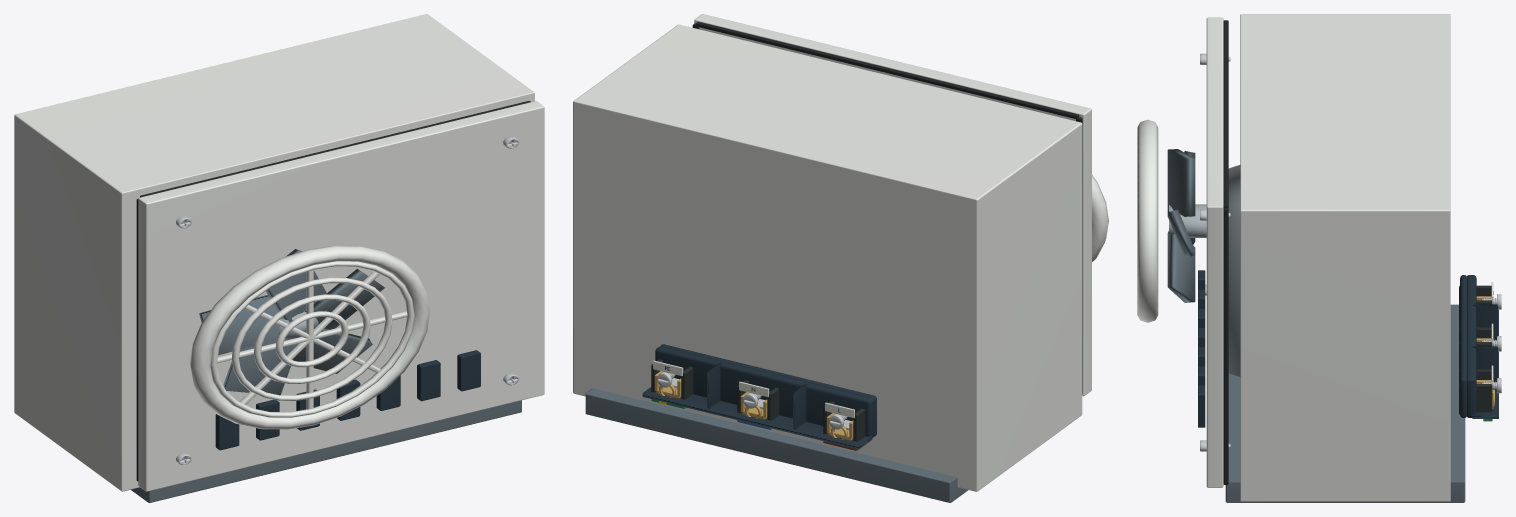
File: heatpump_default.glb
3 renders of one model, left to right at view 1: azimuth 30°, elevation 25°; view 2: azimuth 150°, elevation 25°; view 3: azimuth 270°, elevation 25°, orthographic. The views are drawn at different scales.
Visible parts, largest first — view 1: part:cover, part:body, part:cover.001 · Original 7dbee62c, motion:rotor · Original 0905ee26, part:cover · Original a463fd81, detail:enclosure-gasket-and-fixings · Detail rubber gasket, detail:enclosure-gasket-and-fixings · Detail zinc plated fix; view 2: part:body, part:terminals · Original a463fd81, part:cover, detail:enclosure-gasket-and-fixings · Detail rubber gasket, part:cover.001 · Original 7dbee62c; view 3: part:body, part:cover, part:cover.001 · Original 7dbee62c, motion:rotor · Original 0905ee26, part:terminals · Original a463fd81, detail:enclosure-gasket-and-fixings · Detail rubber gasket, part:body.002, part:cover · Original a463fd81, detail:terminal-clamp:PE · Detail moulded engineering polyme, motion:rotor.
Part boxes in pixels (x1=…): part:cover: x1=138, y1=101, x2=544, y2=491; part:body: x1=14, y1=14, x2=534, y2=502; part:cover.001 · Original 7dbee62c: x1=190, y1=246, x2=429, y2=429; motion:rotor · Original 0905ee26: x1=199, y1=249, x2=384, y2=395; part:cover · Original a463fd81: x1=215, y1=350, x2=480, y2=450; detail:enclosure-gasket-and-fixings · Detail rubber gasket: x1=136, y1=101, x2=530, y2=481; detail:enclosure-gasket-and-fixings · Detail zinc plated fix: x1=176, y1=136, x2=518, y2=464; part:body: x1=573, y1=24, x2=1082, y2=502; part:terminals · Original a463fd81: x1=642, y1=344, x2=876, y2=449; part:cover: x1=694, y1=14, x2=1091, y2=396; detail:enclosure-gasket-and-fixings · Detail rubber gasket: x1=692, y1=21, x2=1082, y2=392; part:cover.001 · Original 7dbee62c: x1=1092, y1=175, x2=1108, y2=261; part:body: x1=1225, y1=14, x2=1465, y2=502; part:cover: x1=1206, y1=17, x2=1223, y2=487; part:cover.001 · Original 7dbee62c: x1=1137, y1=119, x2=1158, y2=322; motion:rotor · Original 0905ee26: x1=1167, y1=149, x2=1195, y2=302; part:terminals · Original a463fd81: x1=1460, y1=275, x2=1498, y2=418; detail:enclosure-gasket-and-fixings · Detail rubber gasket: x1=1223, y1=20, x2=1228, y2=484; part:body.002: x1=1228, y1=165, x2=1240, y2=376; part:cover · Original a463fd81: x1=1198, y1=270, x2=1205, y2=427; detail:terminal-clamp:PE · Detail moulded engineering polyme: x1=1459, y1=369, x2=1493, y2=414; motion:rotor: x1=1169, y1=204, x2=1206, y2=237.
Bounding box in the file's own units: 1.56 × 1.24 × 1.22.
